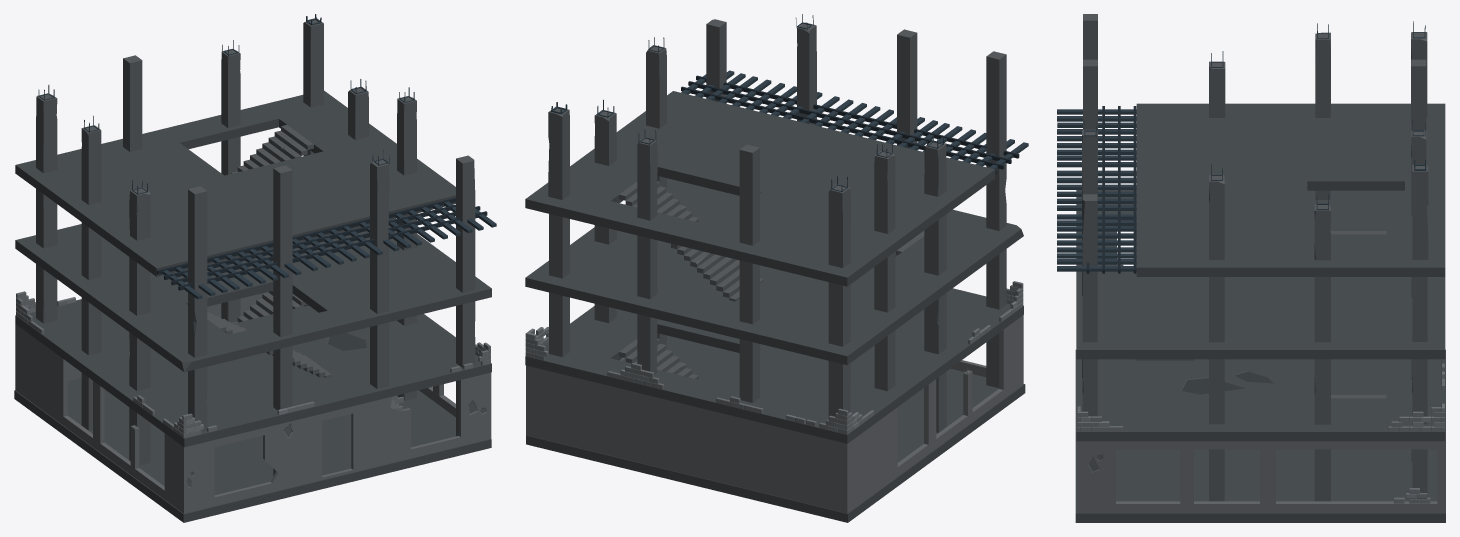
The model's file is SM_Buildings_Construction_02.fbx.
The picture shows the model from 3 angles, left to right: view 1: azimuth 30°, elevation 25°; view 2: azimuth 150°, elevation 25°; view 3: azimuth 270°, elevation 25°; orthographic projection. The views are drawn at different scales.
Visible parts, largest first — view 1: SM_Buildings_Construction_02; view 2: SM_Buildings_Construction_02; view 3: SM_Buildings_Construction_02.
Part boxes in pixels (left/top/right/bottom): SM_Buildings_Construction_02: left=14, top=14, right=496, bottom=522; SM_Buildings_Construction_02: left=525, top=14, right=1028, bottom=522; SM_Buildings_Construction_02: left=1057, top=14, right=1445, bottom=522.
Bounding box in the file's own units: 15.04 × 15.03 × 15.03.
